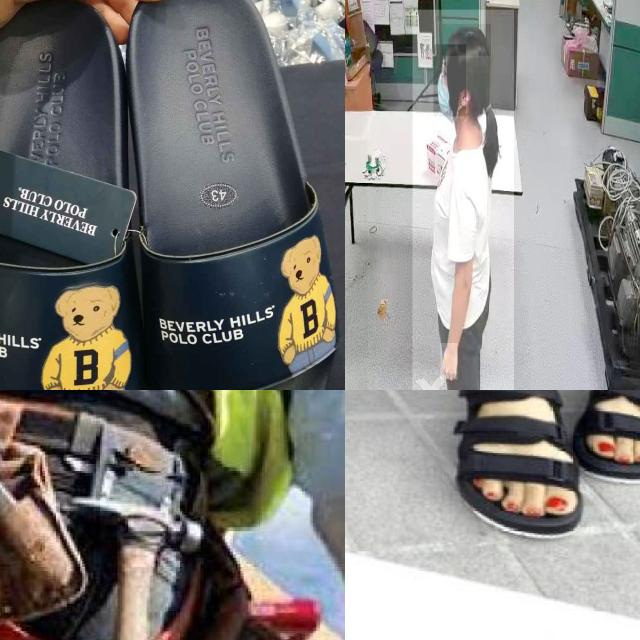Harness: (0, 390, 265, 640)
Sandals: (0, 0, 345, 390), (453, 390, 603, 542), (566, 390, 640, 488)
face_mask: (434, 45, 466, 116)
hand_noglove: (440, 343, 458, 380)
head_nohelmet: (442, 24, 492, 57)
person: (412, 9, 514, 390)
